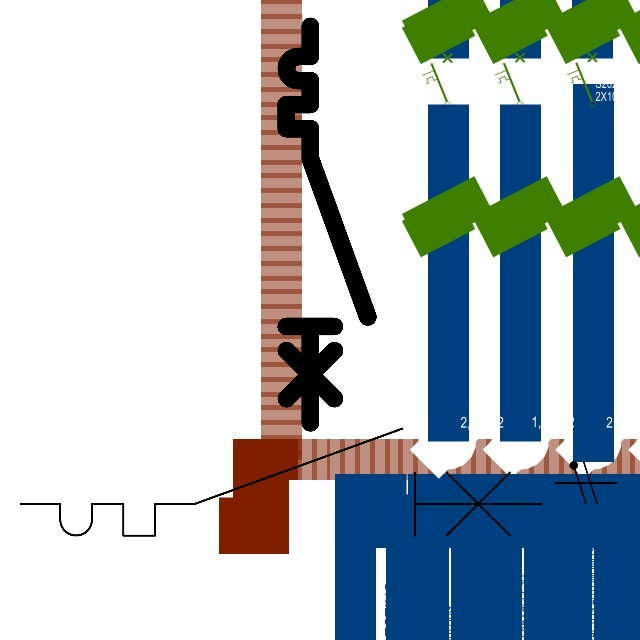interruptor_termomagnetico: (7, 415, 555, 549), (276, 16, 378, 433)
